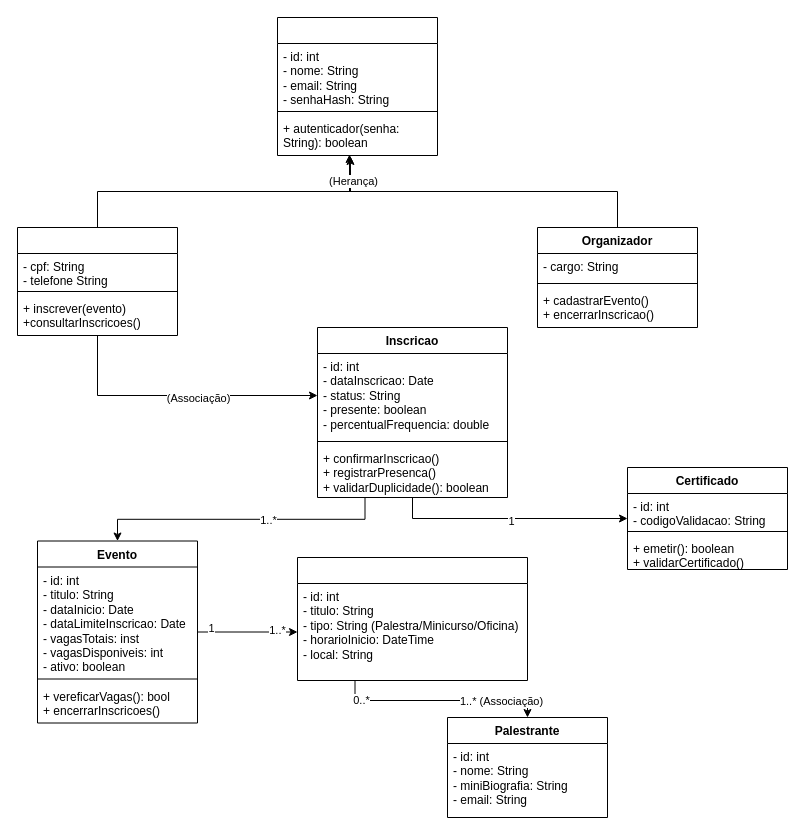
Some shapes in this 805 by 838 pixel diagram are drawn without their labels. Here are the shapes that lost their labels. From the top down, the box of each, then its label:
(276, 16, 438, 156): Usario
(16, 226, 178, 336): Participante
(296, 556, 528, 680): SessaoEvento
